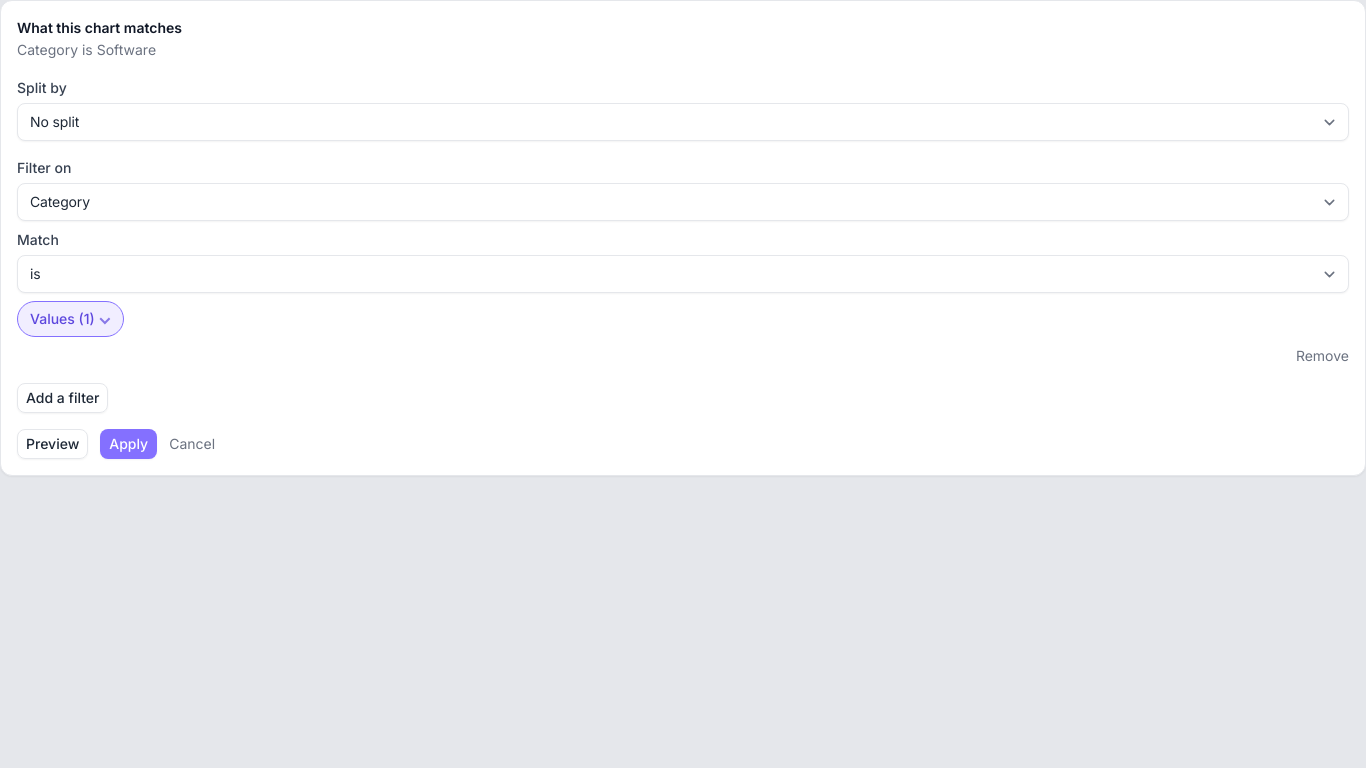
Test: ChartRuleEditor › previews the edited rule without saving it
The width and height of the screenshot is (1366, 768).
Click the button with test id "rule-editor-preview" at (53, 444), box [17,429,88,459]
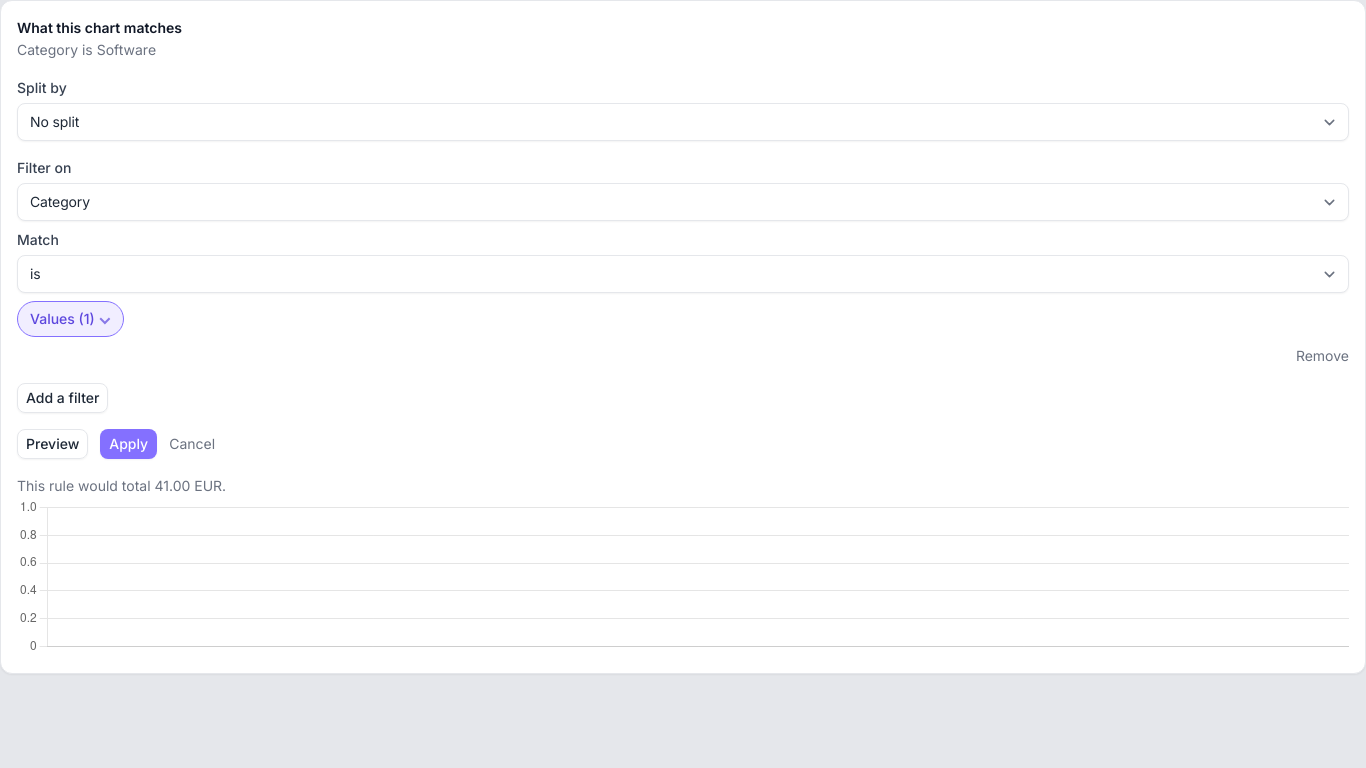
Now the text with test id "rule-editor-preview-total" reads "41.00", box [154,477,190,494]
